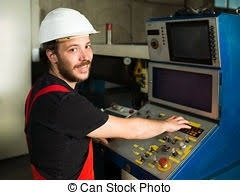helmet: (37, 6, 102, 47)
person with partial safety: (23, 6, 107, 178)
